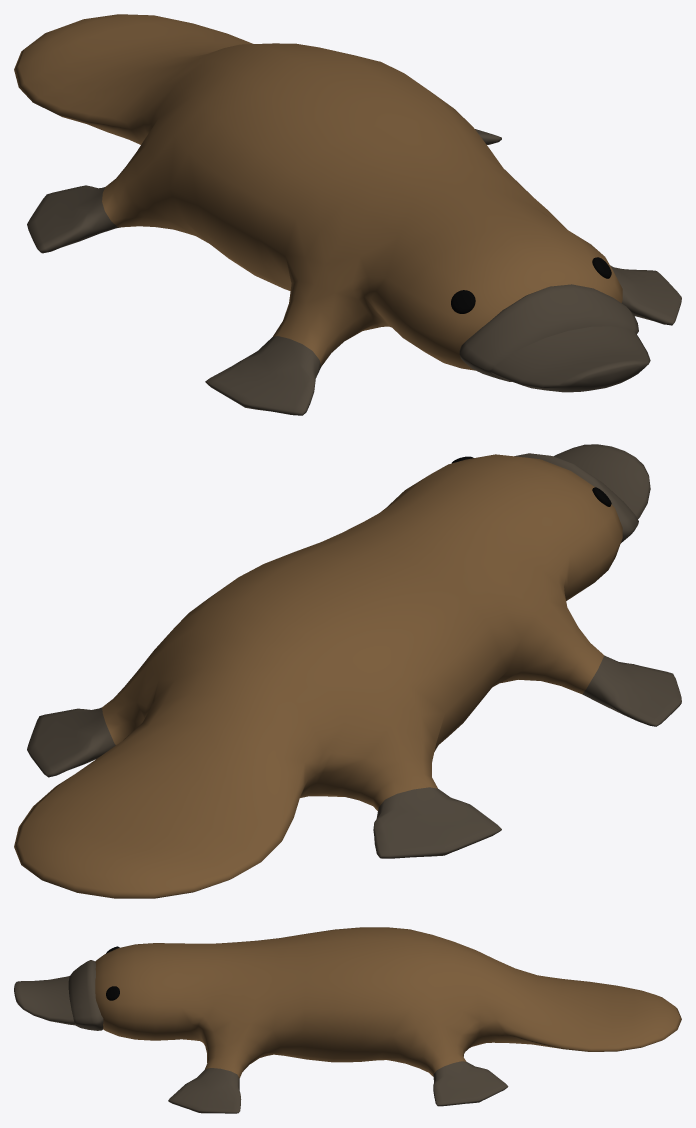
The model's file is platypus.glb.
3 views of the same model, one above another, from view 1: azimuth 30°, elevation 25°; view 2: azimuth 150°, elevation 25°; view 3: azimuth 270°, elevation 25° (orthographic). The views are drawn at different scales.
Visible parts, largest first — view 1: Platypus-smooth; view 2: Platypus-smooth; view 3: Platypus-smooth.
Part boxes in pixels (left/top/right/bottom): Platypus-smooth: left=14, top=14, right=681, bottom=415; Platypus-smooth: left=14, top=444, right=681, bottom=898; Platypus-smooth: left=14, top=927, right=681, bottom=1113.
Size of the model in its own units: 0.2447 by 0.0881 by 0.4936.
